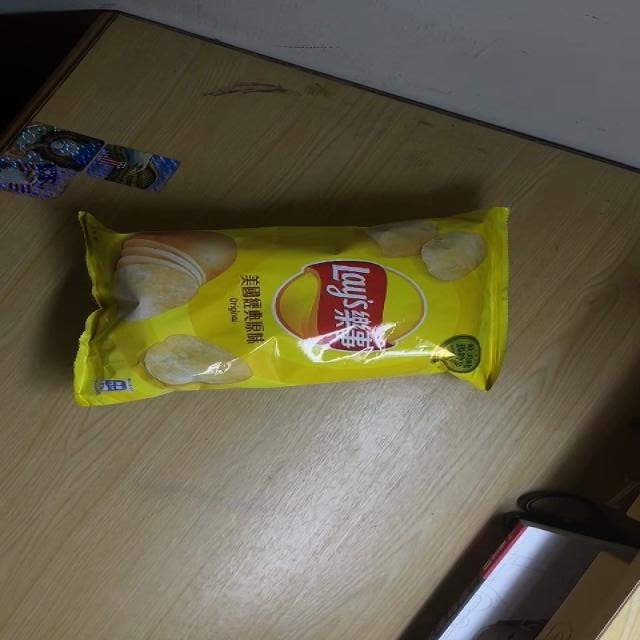Lay-s-original: (72, 206, 520, 407)
